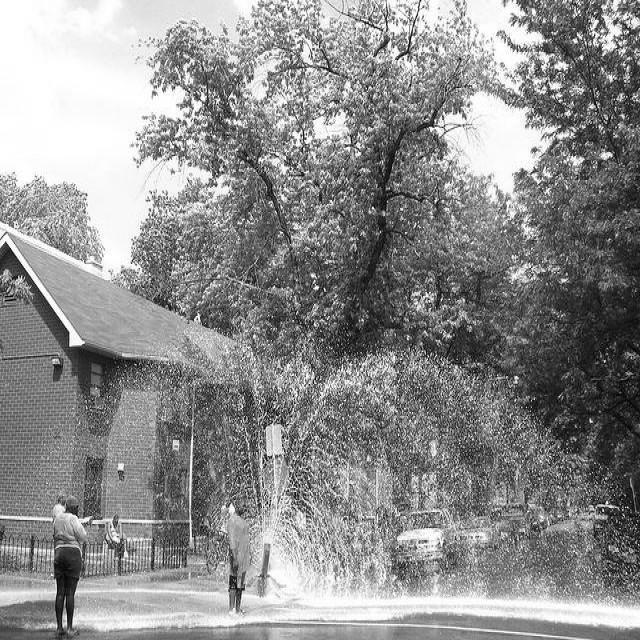vehicle: (396, 509, 462, 569), (600, 515, 640, 591), (459, 518, 501, 551), (593, 504, 627, 538), (497, 519, 533, 542), (527, 507, 551, 530), (549, 508, 560, 526), (558, 514, 570, 523), (569, 511, 577, 521), (588, 507, 594, 513)
